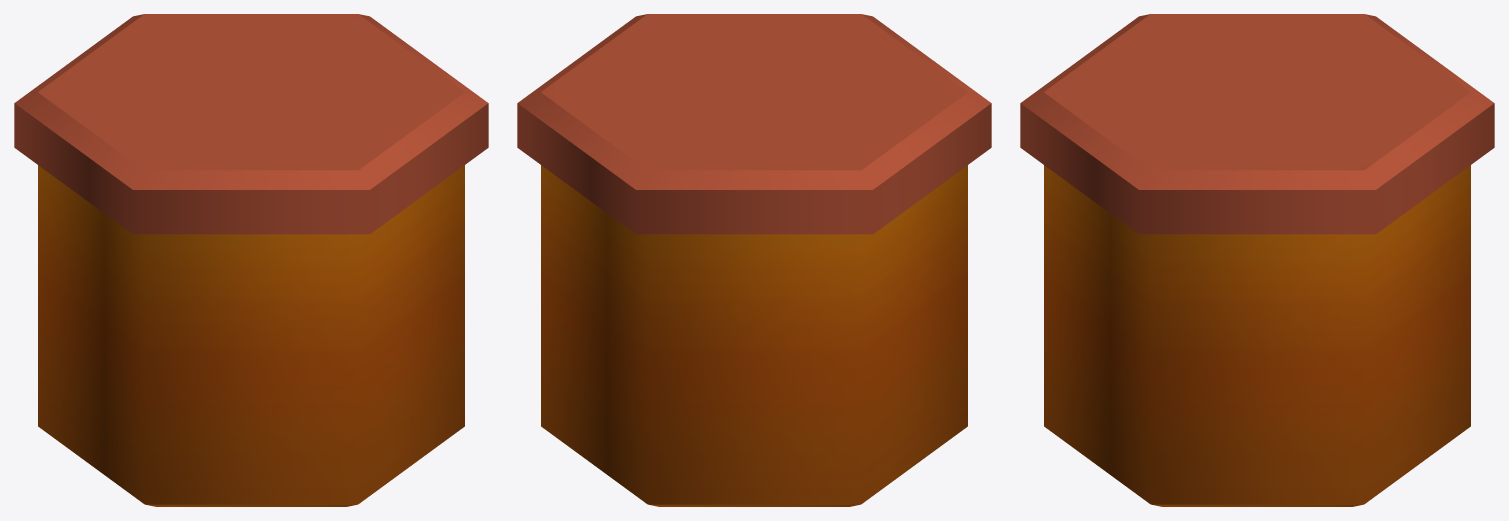
The model's file is Jar_2_D.fbx.
3 renders of one model, left to right at view 1: azimuth 30°, elevation 25°; view 2: azimuth 150°, elevation 25°; view 3: azimuth 270°, elevation 25°, orthographic.
Visible parts, largest first — view 1: Jar_2_D; view 2: Jar_2_D; view 3: Jar_2_D.
Part boxes in pixels (<box>): Jar_2_D: <box>14,14,488,506</box>; Jar_2_D: <box>517,14,991,506</box>; Jar_2_D: <box>1020,14,1494,506</box>.
Size of the model in its own units: 17.99 by 16.69 by 20.77.
